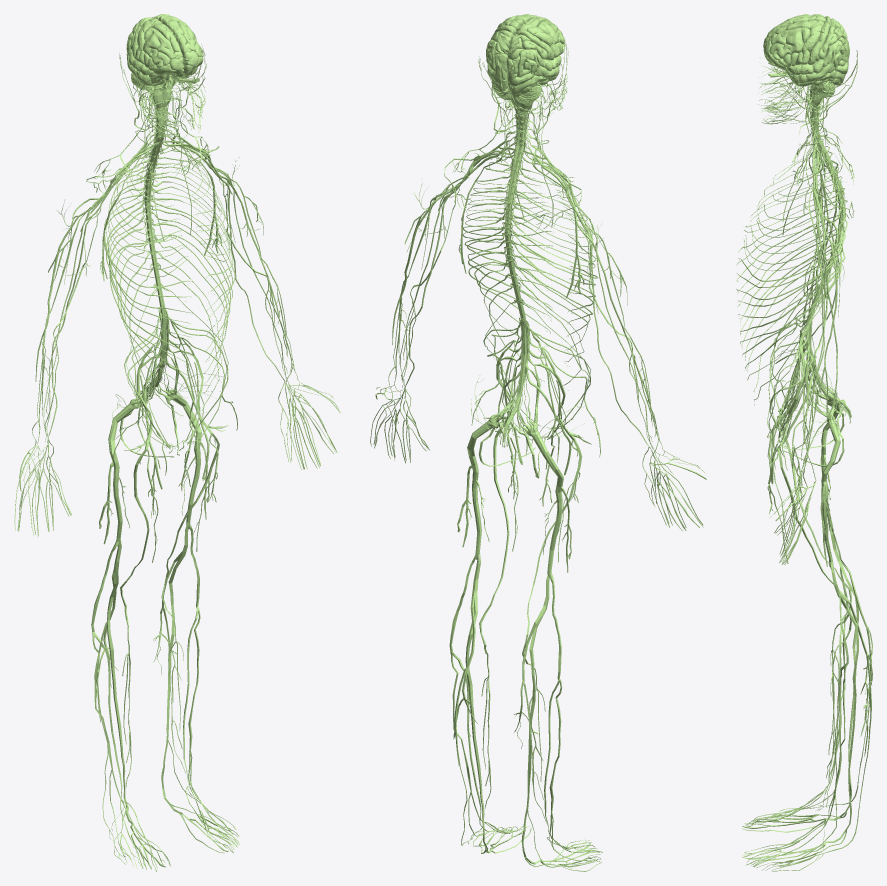
File: female_nervous_system.glb
The picture shows the model from 3 angles, left to right: view 1: azimuth 30°, elevation 25°; view 2: azimuth 150°, elevation 25°; view 3: azimuth 270°, elevation 25°; orthographic projection. The views are drawn at different scales.
Visible parts, largest first — view 1: nerves, brain; view 2: nerves, brain; view 3: nerves, brain.
Boxes of the visible parts, bbox=[...] form: nerves: bbox=[14, 44, 340, 871]; brain: bbox=[126, 14, 203, 90]; nerves: bbox=[370, 36, 706, 871]; brain: bbox=[486, 14, 565, 104]; nerves: bbox=[736, 50, 872, 871]; brain: bbox=[763, 14, 849, 97].
Bounding box in the file's own units: 69.55 × 169 × 25.32.
